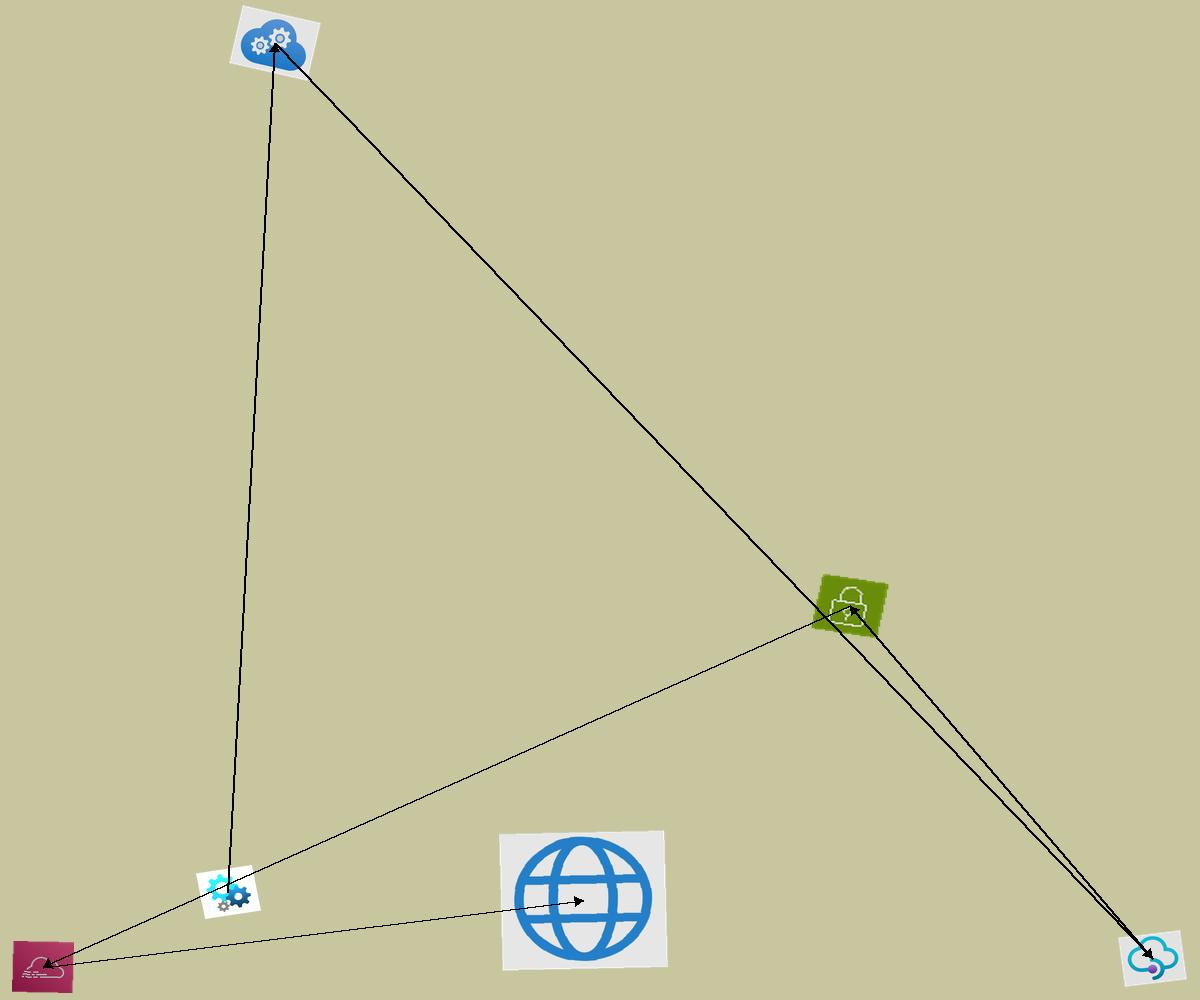AWS-CloudTrail: (12, 941, 74, 993)
AWS-Public-subnet: (810, 573, 890, 639)
Azure_api: (196, 865, 261, 919)
Azure_api_gateway: (1118, 930, 1187, 987)
Azure_cloud_services: (229, 5, 321, 81)
Azure_http: (499, 830, 668, 971)
